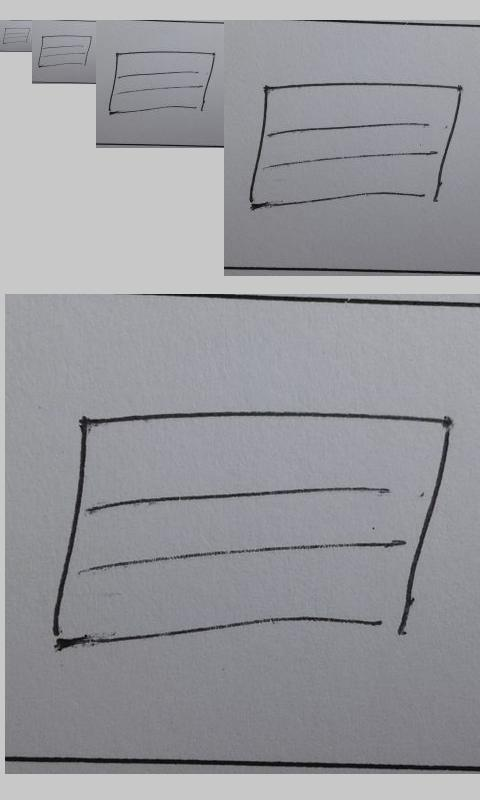list_view: (47, 408, 452, 653), (248, 82, 463, 209), (107, 51, 216, 115), (37, 34, 93, 68), (2, 27, 32, 44)
